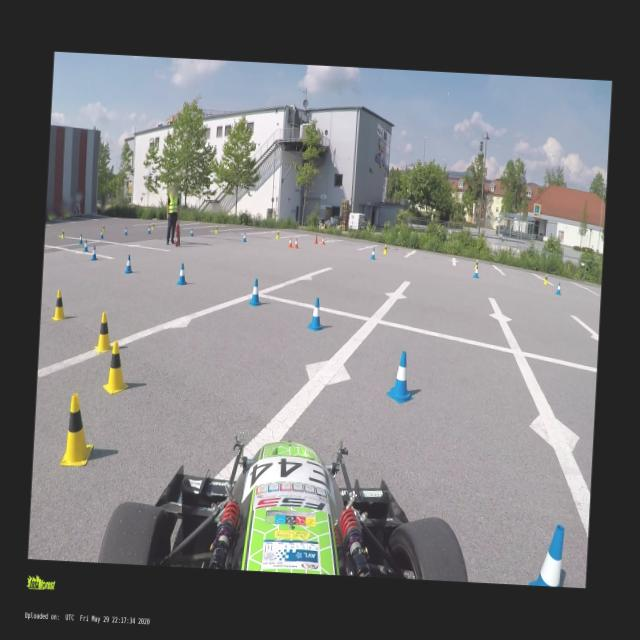blue_cone: (529, 523, 570, 587), (386, 351, 416, 403), (308, 298, 324, 330), (250, 278, 262, 306), (176, 262, 188, 286), (123, 255, 133, 274), (90, 245, 98, 261), (556, 282, 562, 295), (78, 233, 84, 246), (370, 248, 376, 260), (473, 266, 479, 278), (84, 239, 88, 253), (242, 232, 247, 243), (100, 230, 104, 239), (124, 226, 128, 235), (190, 228, 193, 236), (148, 225, 150, 235)
orange_cone: (288, 238, 293, 248), (294, 237, 298, 248), (314, 236, 318, 243), (322, 236, 325, 244)
yellow_cone: (60, 393, 96, 466), (102, 342, 131, 394), (92, 312, 116, 353), (51, 290, 68, 322), (60, 229, 66, 239), (473, 259, 478, 270), (383, 244, 388, 254), (544, 274, 548, 286), (214, 226, 218, 234), (101, 224, 105, 232), (276, 230, 280, 238), (150, 222, 154, 230)
